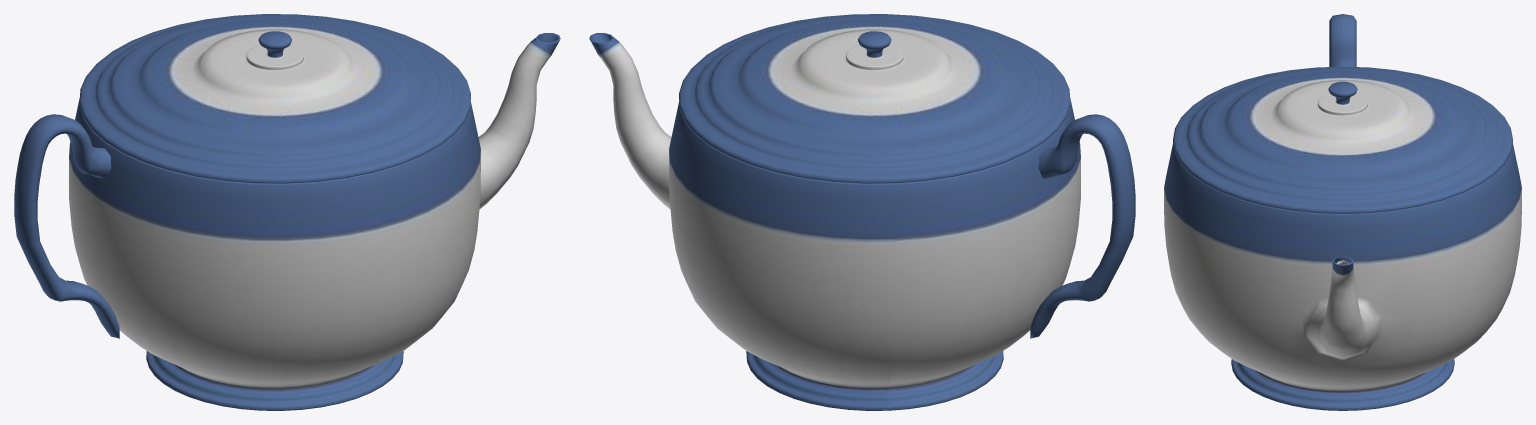
File: teapot.glb
3 views of the same model, side by side, from view 1: azimuth 30°, elevation 25°; view 2: azimuth 150°, elevation 25°; view 3: azimuth 270°, elevation 25° (orthographic). The views are drawn at different scales.
Parts seen in each view (by area): view 1: teapot, teapot_cap; view 2: teapot, teapot_cap; view 3: teapot, teapot_cap.
Boxes of the visible parts, x1,y1,x2,y2 form: teapot: (14,33,560,410); teapot_cap: (79,14,470,183); teapot: (589,33,1135,410); teapot_cap: (679,14,1070,183); teapot: (1164,14,1521,410); teapot_cap: (1173,66,1512,213).
Bounding box in the file's own units: 0.2268 × 0.1282 × 0.1498.
Materials: 1 (1 with a texture image).
